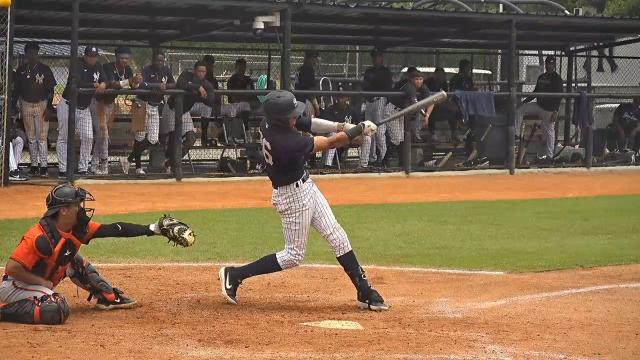bat: (376, 91, 448, 127)
